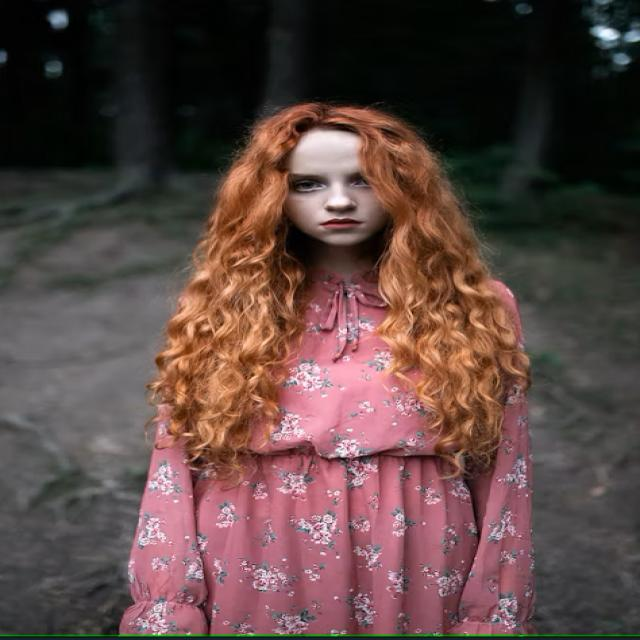Edited images: (120, 82, 564, 640)
